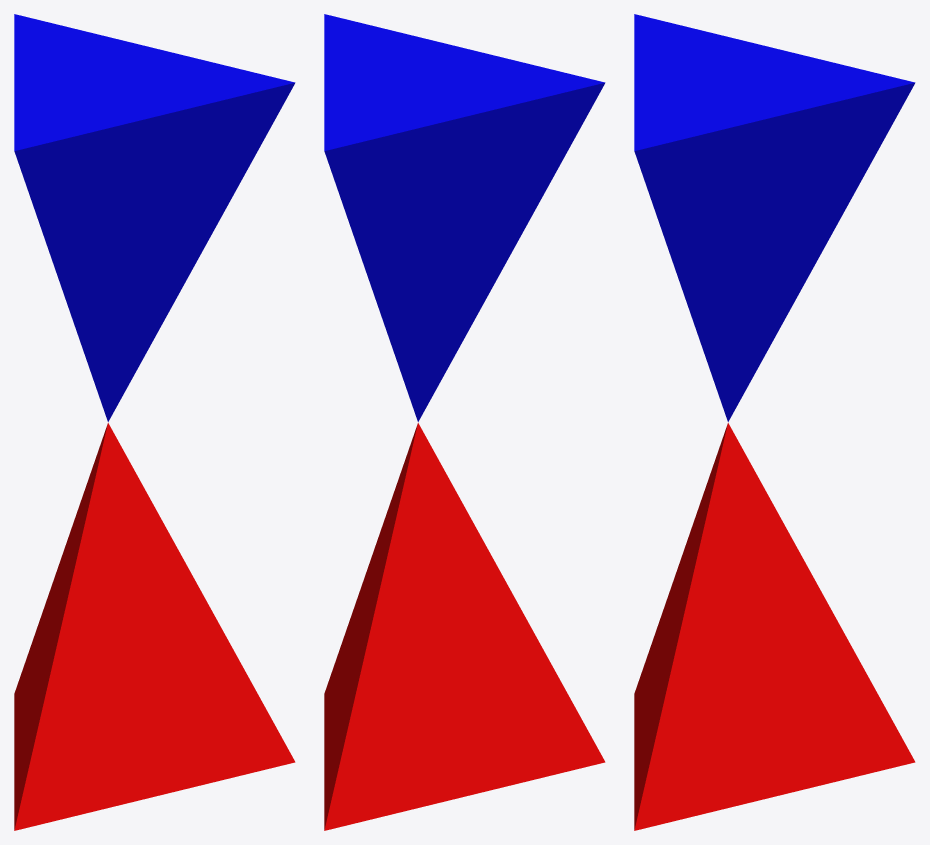
File: instanced_materials.fbx
3 renders of one model, left to right at view 1: azimuth 30°, elevation 25°; view 2: azimuth 150°, elevation 25°; view 3: azimuth 270°, elevation 25°, orthographic.
Visible parts, largest first — view 1: ConeBottom, ConeTop; view 2: ConeBottom, ConeTop; view 3: ConeBottom, ConeTop.
Boxes of the visible parts, x1,y1,x2,y2 form: ConeBottom: [14, 423, 295, 830]; ConeTop: [14, 14, 295, 421]; ConeBottom: [324, 423, 605, 830]; ConeTop: [324, 14, 605, 421]; ConeBottom: [634, 423, 915, 830]; ConeTop: [634, 14, 915, 421].
Size of the model in its own units: 1.73 by 4 by 1.5.
